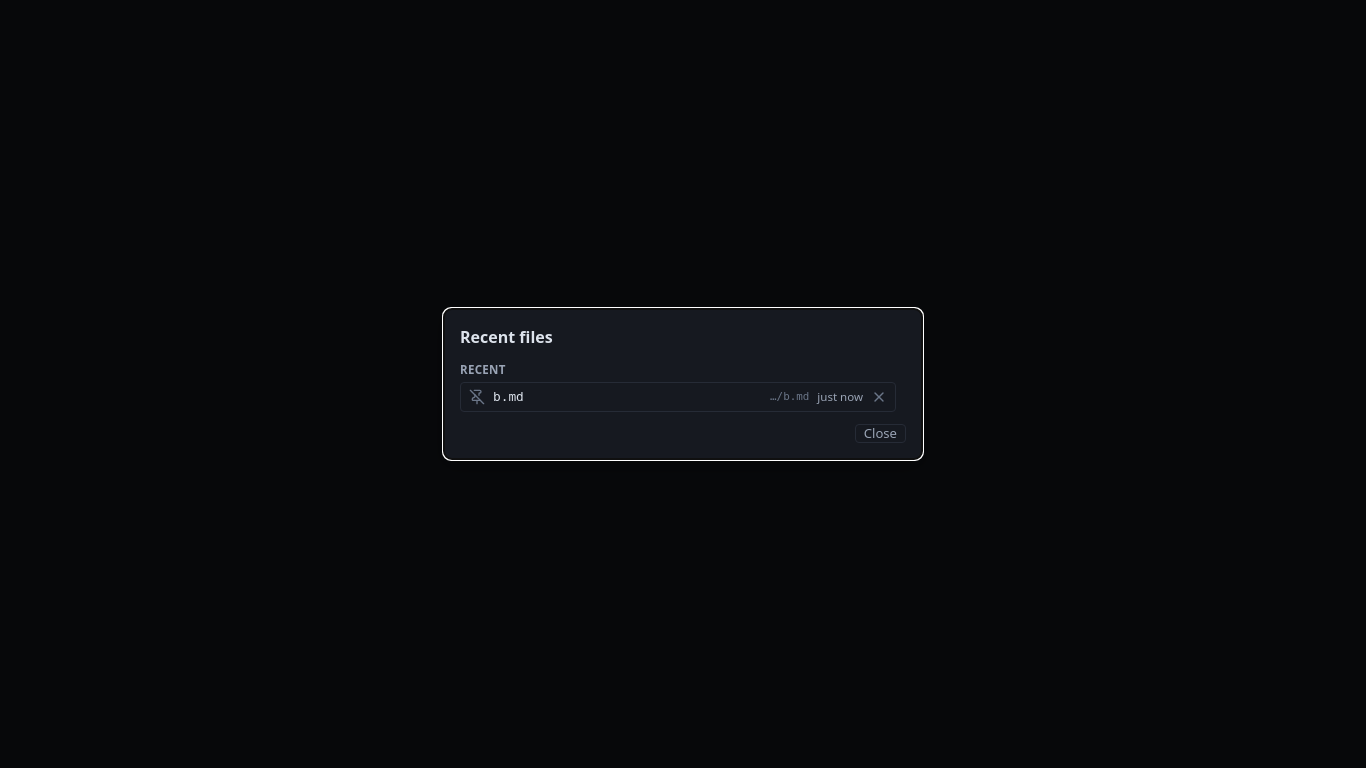
Test case: HistoryDialog › open failure renders an inline error and keeps the dialog open
What coordinates should you click on to do the following:
click the option "b.md …/b.md just now"
I would click on:
 (508, 397)
Its box is [460,382,896,412].
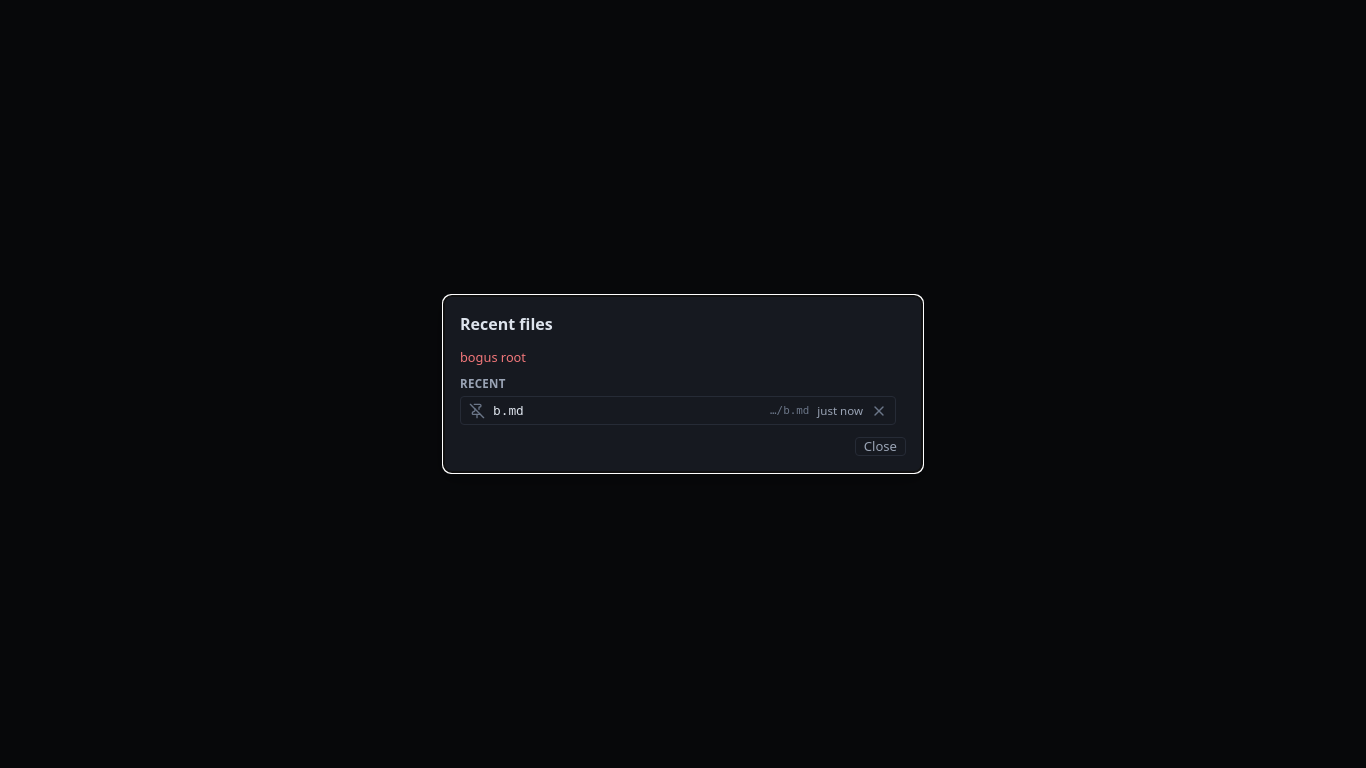
Check: the text "bogus root" is shown, box [460,348,526,366]
